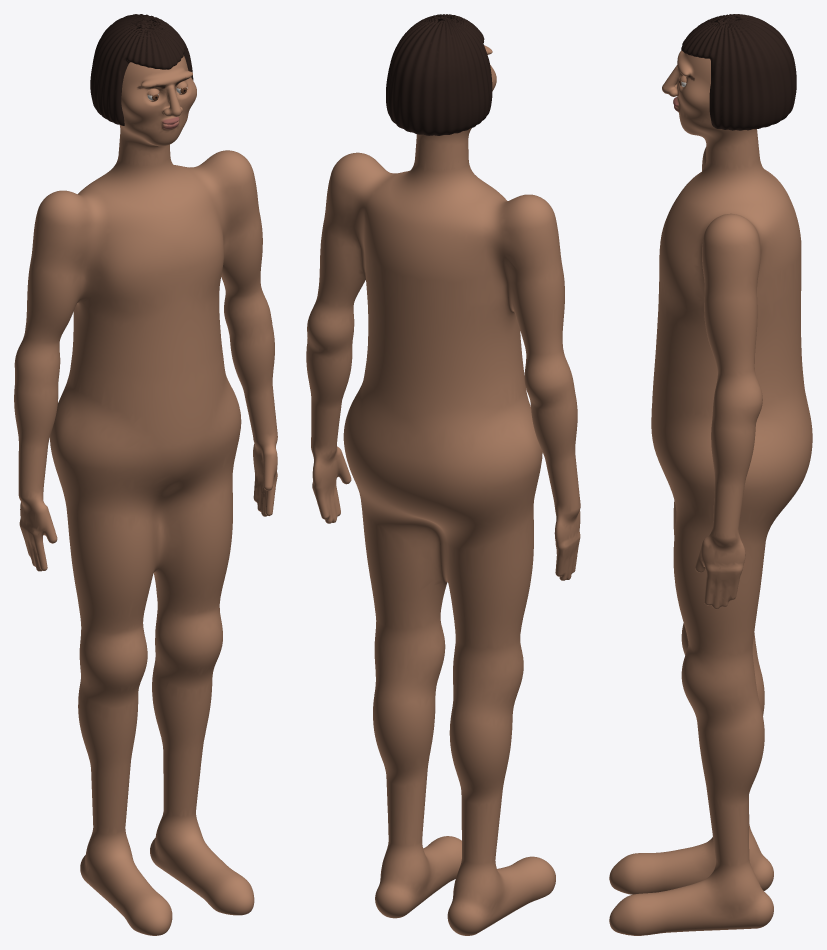
File: body-unspecified.glb
The picture shows the model from 3 angles, left to right: view 1: azimuth 30°, elevation 25°; view 2: azimuth 150°, elevation 25°; view 3: azimuth 270°, elevation 25°; orthographic projection. The views are drawn at different scales.
Visible parts, largest first — view 1: body-unspecified, hair; view 2: body-unspecified, hair; view 3: body-unspecified, hair.
Boxes of the visible parts, x1,y1,x2,y2 form: body-unspecified: (14, 55, 277, 935); hair: (90, 14, 193, 125); body-unspecified: (306, 45, 580, 935); hair: (386, 14, 492, 135); body-unspecified: (609, 50, 812, 935); hair: (681, 14, 796, 130).
Size of the model in its own units: 0.543 by 1.75 by 0.362.
